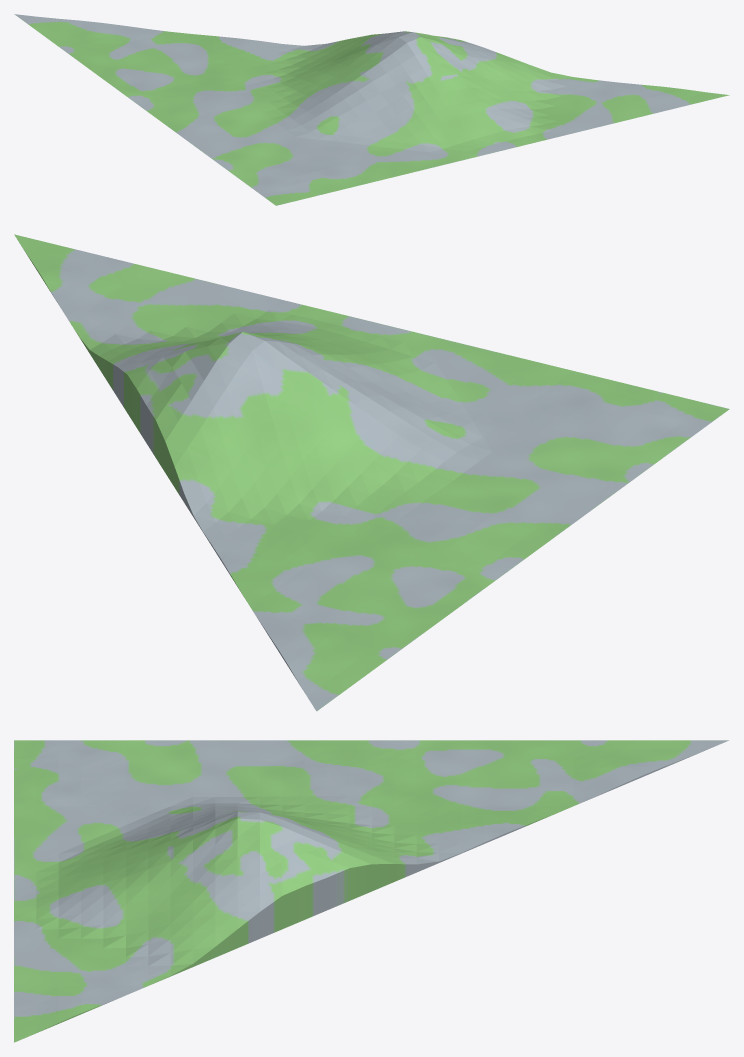
Rendered from Grass_RockyGround_08_NW.obj.
3 views of the same model, one above another, from view 1: azimuth 30°, elevation 25°; view 2: azimuth 150°, elevation 25°; view 3: azimuth 270°, elevation 25° (orthographic). The views are drawn at different scales.
Size of the model in its own units: 10 by 1.13 by 10.
Materials: 1 (1 with a texture image).
